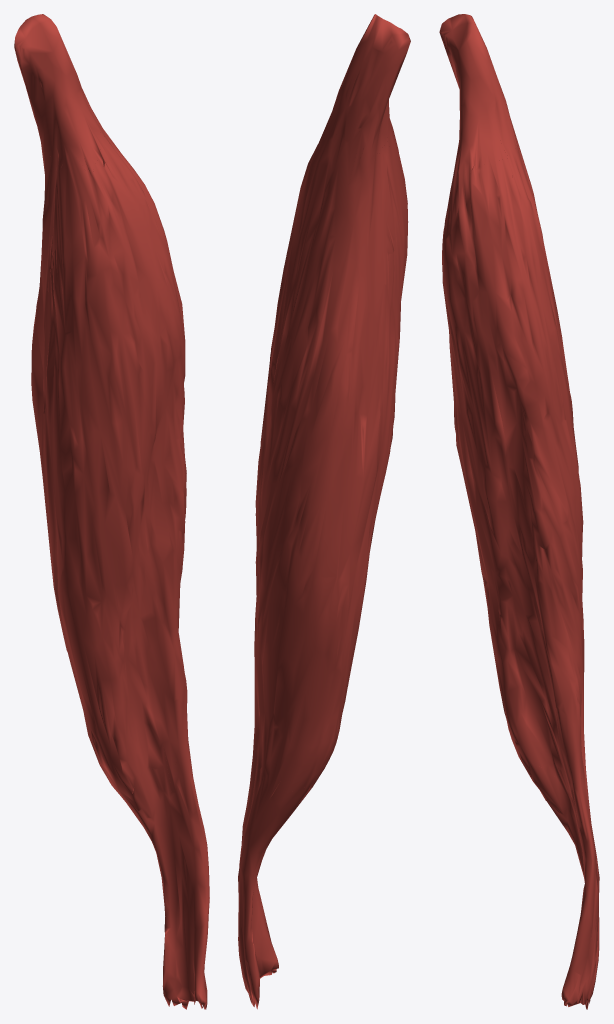
File: musculos-long-head-of-biceps-femoris-l.glb
The picture shows the model from 3 angles, left to right: view 1: azimuth 30°, elevation 25°; view 2: azimuth 150°, elevation 25°; view 3: azimuth 330°, elevation 25°; orthographic projection. The views are drawn at different scales.
Visible parts, largest first — view 1: Long head of biceps femoris.l; view 2: Long head of biceps femoris.l; view 3: Long head of biceps femoris.l.
Boxes of the visible parts, x1=… form: Long head of biceps femoris.l: x1=14, y1=14, x2=209, y2=1009; Long head of biceps femoris.l: x1=238, y1=14, x2=410, y2=1009; Long head of biceps femoris.l: x1=439, y1=14, x2=599, y2=1009.
Size of the model in its own units: 0.0779 by 0.4254 by 0.0558.
